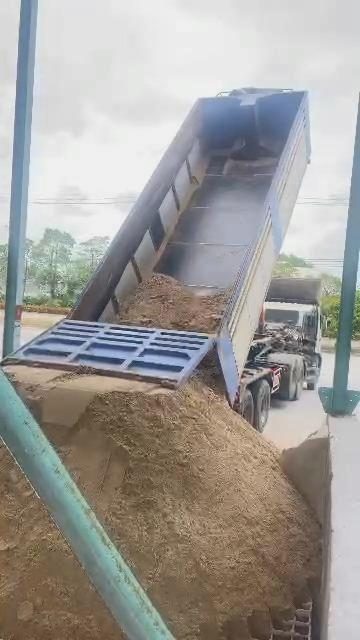sand: (49, 380, 320, 639), (0, 448, 120, 639), (5, 366, 169, 442), (118, 274, 228, 332), (281, 429, 330, 524), (200, 351, 224, 393)
